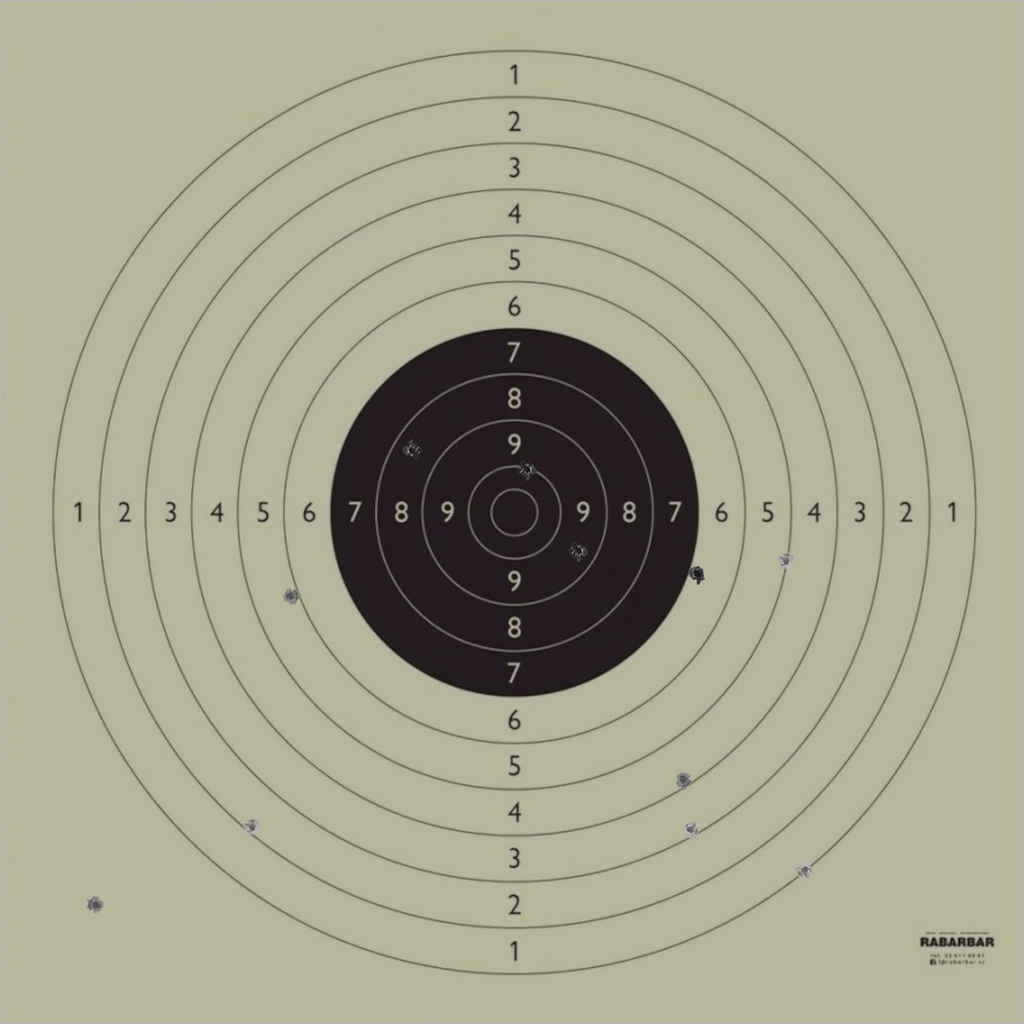0 punktow: (87, 896, 105, 914)
1 punkt: (796, 861, 814, 879)
10 punktow: (517, 460, 536, 478)
2 punkty: (243, 818, 261, 836)
3 punkty: (681, 820, 700, 839)
4 punkty: (674, 771, 693, 789)
5 punktow: (777, 552, 795, 570)
6 punktow: (282, 587, 300, 605)
7 punktow: (688, 565, 706, 583)
8 punktow: (403, 441, 422, 460)
9 punktow: (569, 541, 587, 560)
